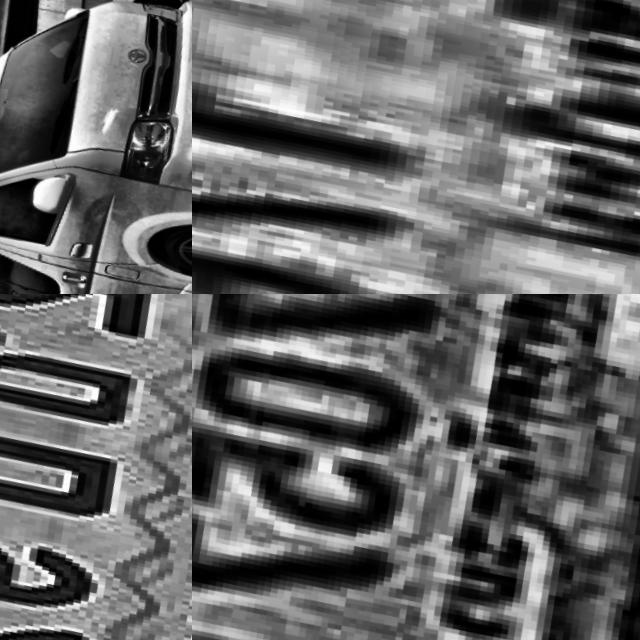license-plate: (192, 294, 640, 640), (192, 0, 640, 294), (0, 294, 192, 640)
